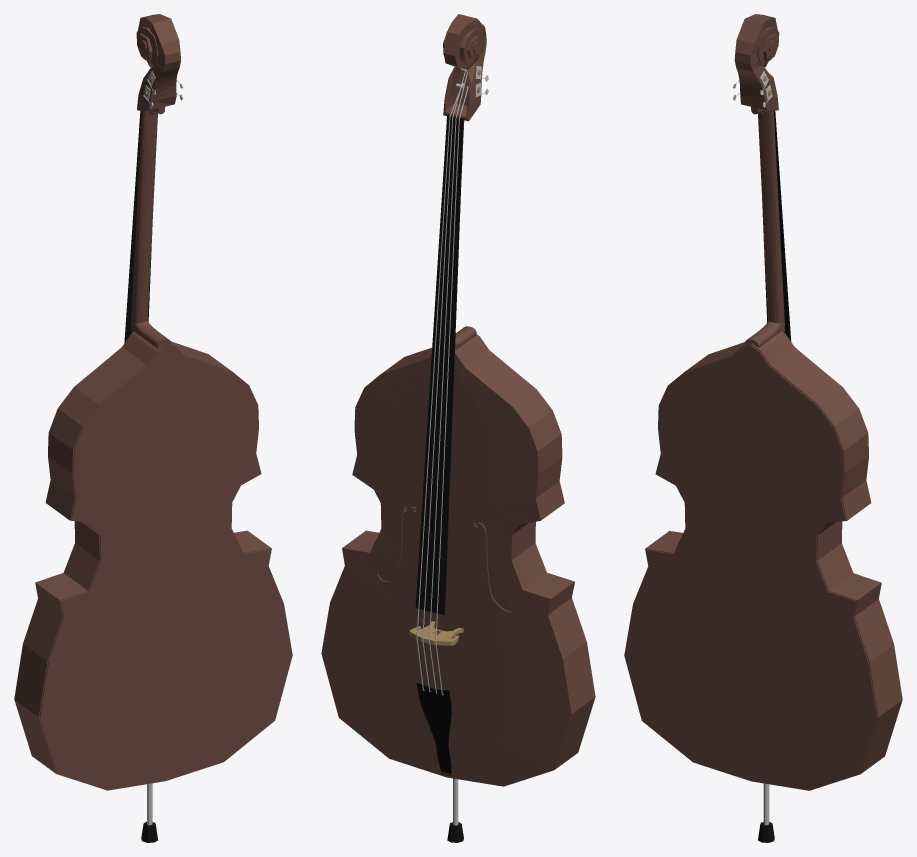
Rendered from bass5.fbx.
3 renders of one model, left to right at view 1: azimuth 30°, elevation 25°; view 2: azimuth 150°, elevation 25°; view 3: azimuth 330°, elevation 25°, orthographic.
Parts seen in each view (by area): view 1: Circle.006; view 2: Circle.006; view 3: Circle.006.
Part boxes in pixels (x1,y1,x2,y2): Circle.006: [14, 14, 292, 842]; Circle.006: [321, 14, 595, 842]; Circle.006: [624, 14, 902, 842].
Bounding box in the file's own units: 131 × 406 × 47.75.
